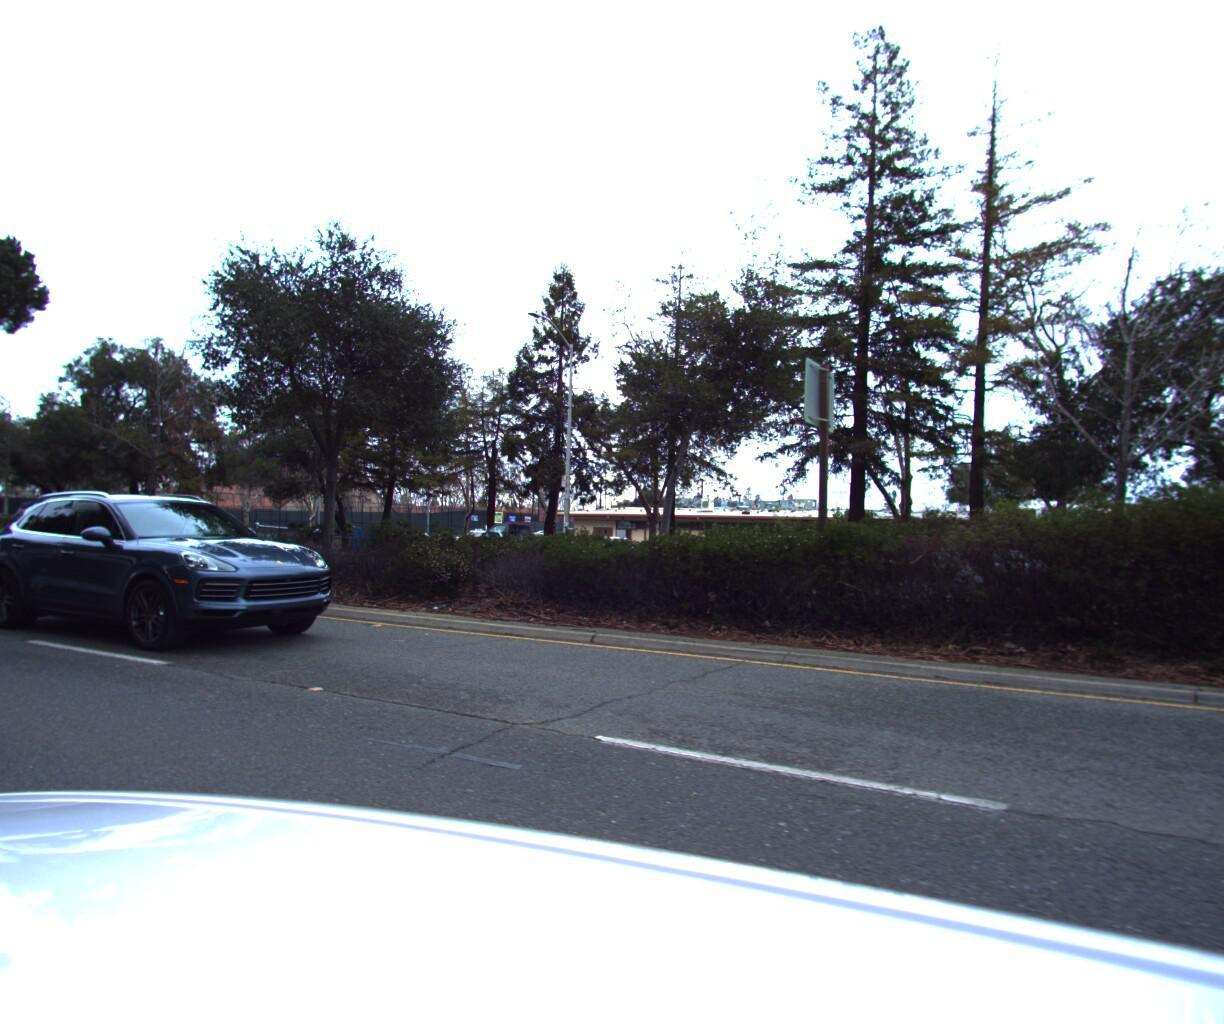car: (0, 482, 379, 663), (452, 530, 583, 579), (0, 460, 7, 682)
